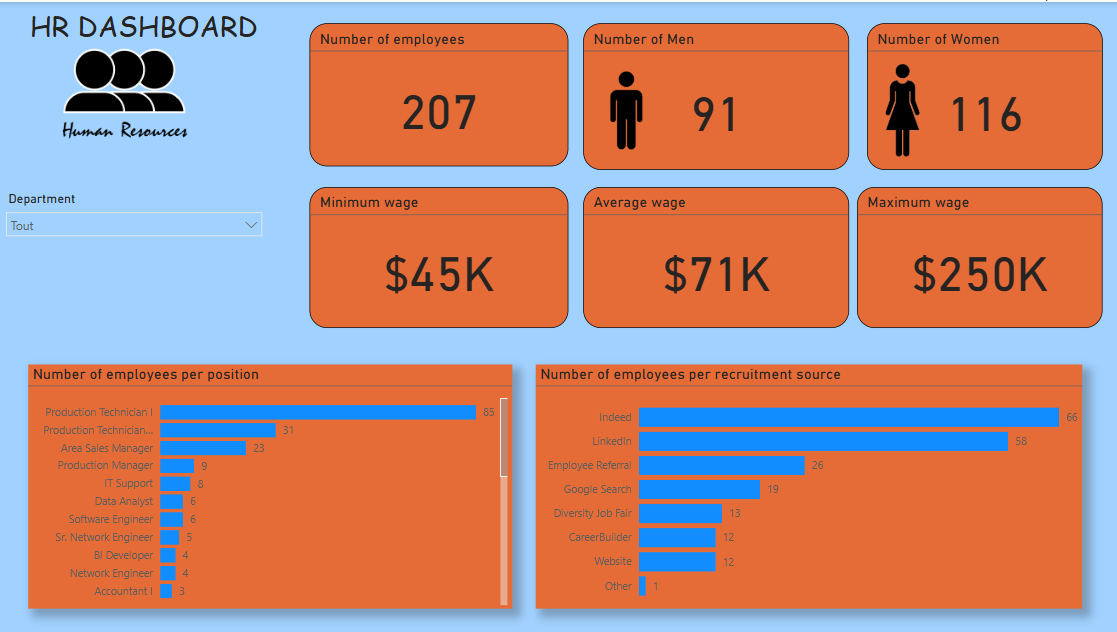

This screenshot's page, from the dashboard's own definition file:
{"tool":"powerbi","page":{"name":"Still Employed (Dashboard)","canvas":[1280,720],"ordinal":0},"visuals":[{"type":"card","title":"Number of employees","fields":{"Values":["HRDataset_v14.Total employees still employed"]},"box":[356.8,24.7,295,163.3],"z":0},{"type":"card","title":"Number of Men","fields":{"Values":["HRDataset_v14.Total Men still employed"]},"box":[668.3,24.7,303.3,167.4],"z":1000},{"type":"card","title":"Number of Women","fields":{"Values":["HRDataset_v14.Total Women still employed"]},"box":[992.1,24.7,269,167.4],"z":2000},{"type":"slicer","fields":{"Values":["HRDataset_v14.Department"]},"box":[0,211,312.2,183.9],"z":3000},{"type":"card","title":"Average wage","fields":{"Values":["HRDataset_v14.average salary still employed"]},"box":[668.3,211.3,303.3,160.5],"z":4000},{"type":"card","title":"Minimum wage","fields":{"Values":["HRDataset_v14.min salary still employed"]},"box":[356.8,211.3,295,160.5],"z":5000},{"type":"card","title":"Maximum wage","fields":{"Values":["HRDataset_v14.max salary still employed"]},"box":[981.1,211.3,279.9,160.5],"z":6000},{"type":"clusteredBarChart","title":"Number of employees per recruitment source","fields":{"Category":["HRDataset_v14.RecruitmentSource"],"Y":["HRDataset_v14.Total employees still employed"]},"box":[614.8,413,623,278.6],"z":7000},{"type":"barChart","title":"Number of employees per position","fields":{"Y":["HRDataset_v14.Total employees still employed"],"Category":["HRDataset_v14.Position"]},"box":[35.7,413,551.6,278.6],"z":8000},{"type":"image","box":[668.5,71.3,98.4,104.1],"z":8001},{"type":"textbox","box":[0,0,335,124],"z":8002},{"type":"image","box":[61.3,22.8,169.6,165.3],"z":8003},{"type":"image","box":[972.1,65.6,118.3,118.3],"z":8004}]}

Visuals, with their boxes in screenshot pixels (x1, y1, x2, y2), scaled from the page's 1280x720 canvas onto the 1117x632 screenshot:
"Number of employees" card: (311, 22, 569, 165)
"Number of Men" card: (583, 22, 848, 169)
"Number of Women" card: (866, 22, 1101, 169)
slicer - HRDataset_v14.Department: (0, 185, 272, 347)
"Average wage" card: (583, 185, 848, 326)
"Minimum wage" card: (311, 185, 569, 326)
"Maximum wage" card: (856, 185, 1100, 326)
"Number of employees per recruitment source" clusteredBarChart: (537, 363, 1080, 607)
"Number of employees per position" barChart: (31, 363, 513, 607)
image: (583, 63, 669, 154)
textbox: (0, 0, 292, 109)
image: (53, 20, 201, 165)
image: (848, 58, 952, 161)
